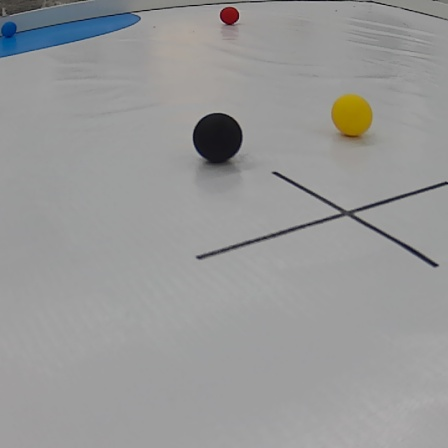black: (193, 115, 249, 158)
blue: (1, 20, 18, 38)
blue_base: (0, 10, 142, 59)
red: (220, 3, 245, 26)
yellow: (330, 93, 373, 138)
